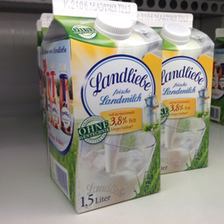milk: (36, 1, 164, 213), (140, 12, 215, 174)
